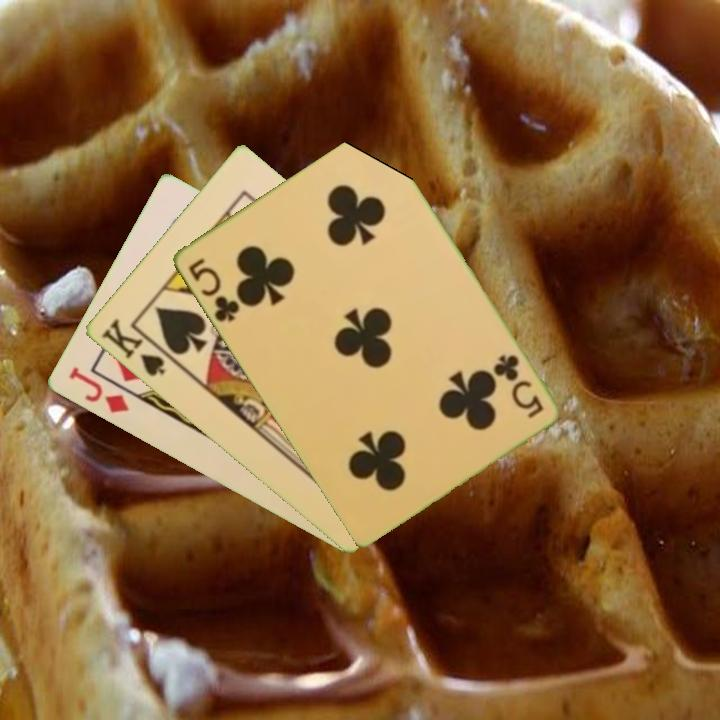5c: (184, 254, 242, 325), (489, 351, 546, 421)
Jd: (65, 363, 132, 417)
Ks: (97, 315, 176, 380)
